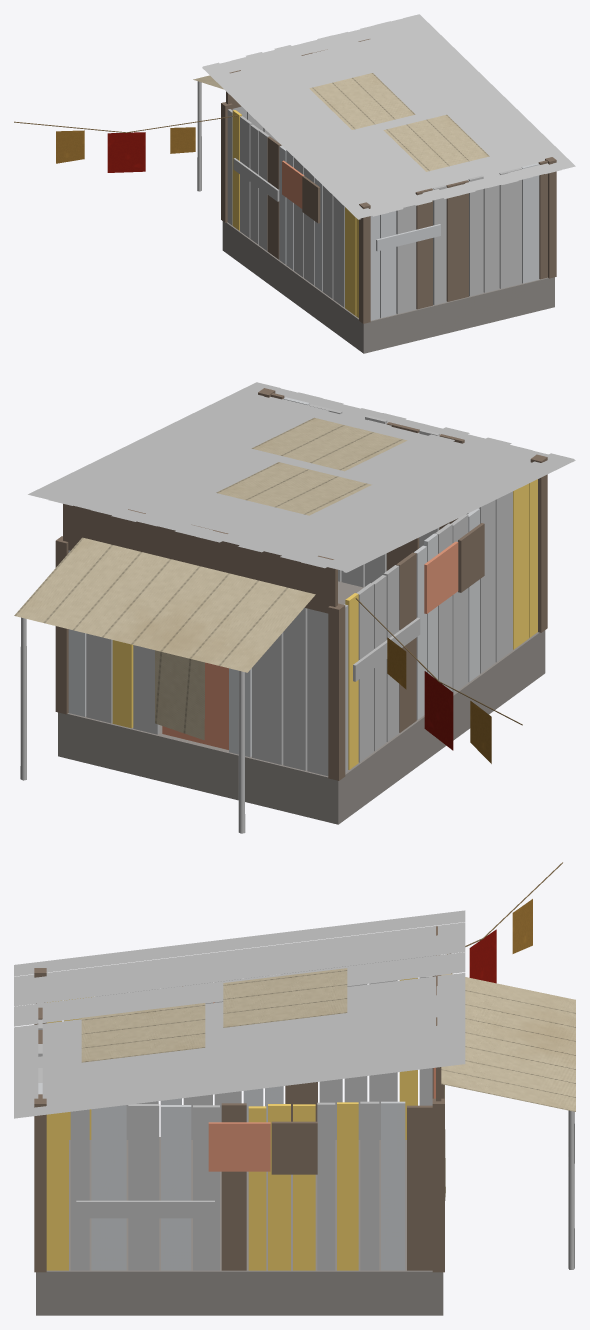
Rendered from SM_Art_Settlement_Shanty_0.gltf.
The picture shows the model from 3 angles, top to bottom: view 1: azimuth 30°, elevation 25°; view 2: azimuth 150°, elevation 25°; view 3: azimuth 270°, elevation 25°; orthographic projection. The views are drawn at different scales.
Parts seen in each view (by area): view 1: SM_Art_Settlement_Shanty_0; view 2: SM_Art_Settlement_Shanty_0; view 3: SM_Art_Settlement_Shanty_0.
Part boxes in pixels (<box>): SM_Art_Settlement_Shanty_0: <box>14,14,575,353</box>; SM_Art_Settlement_Shanty_0: <box>14,382,575,833</box>; SM_Art_Settlement_Shanty_0: <box>14,862,575,1315</box>.
Size of the model in its own units: 7 by 3.27 by 6.35.
